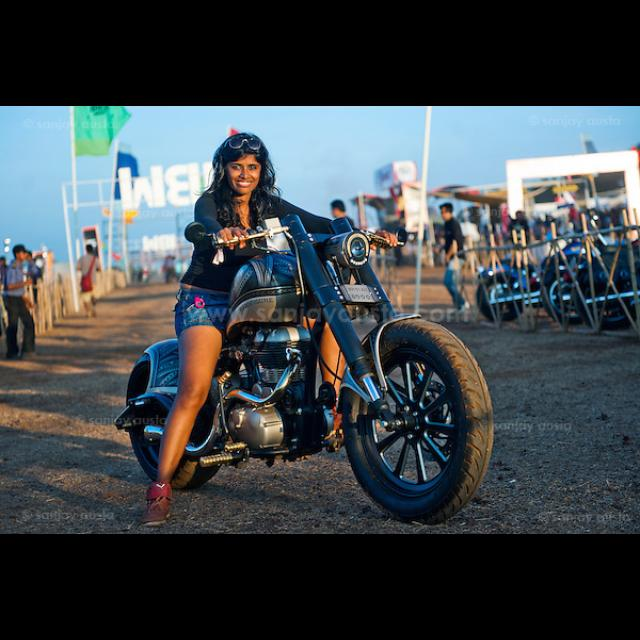Without Helmet: (208, 128, 278, 206)
